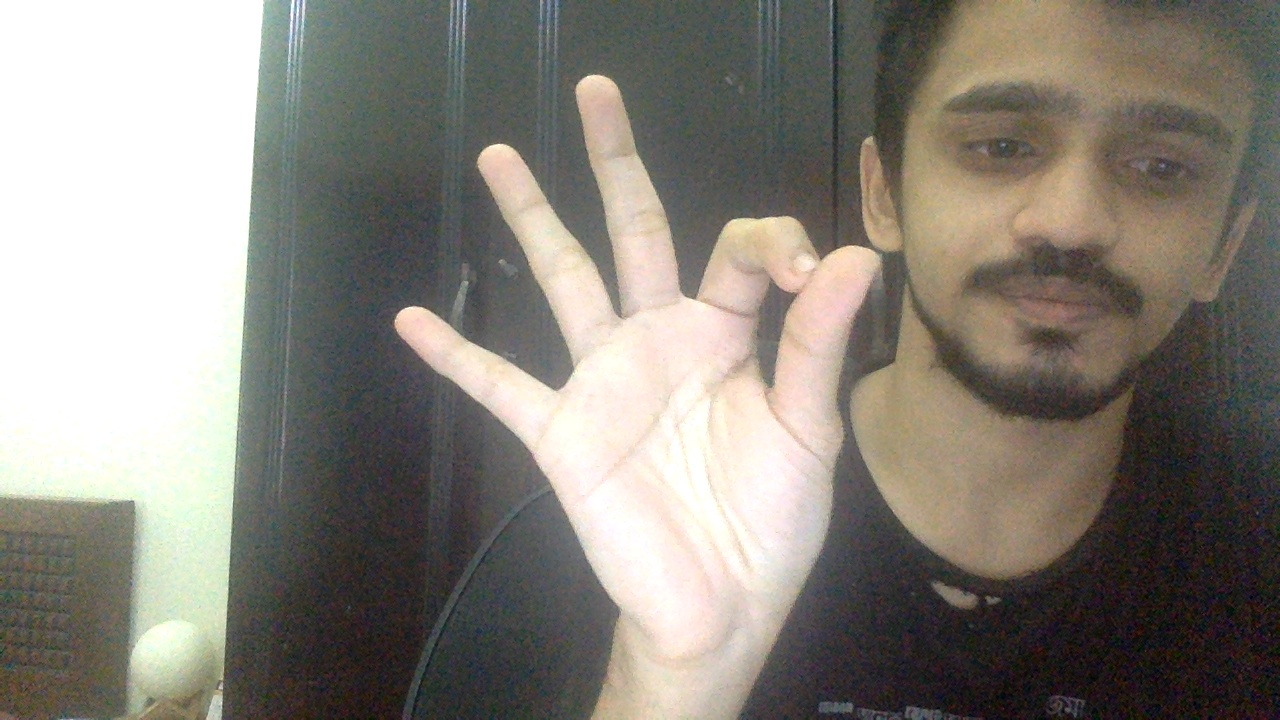perfect: (394, 70, 882, 641)
